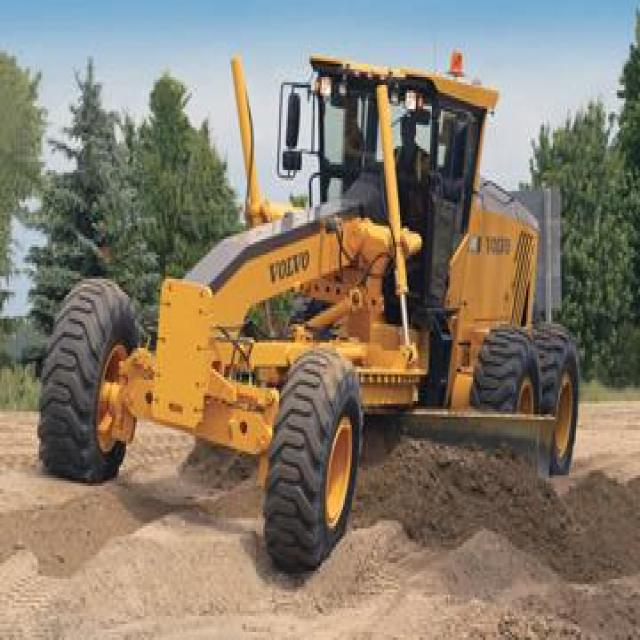Grader: (30, 37, 598, 582)
